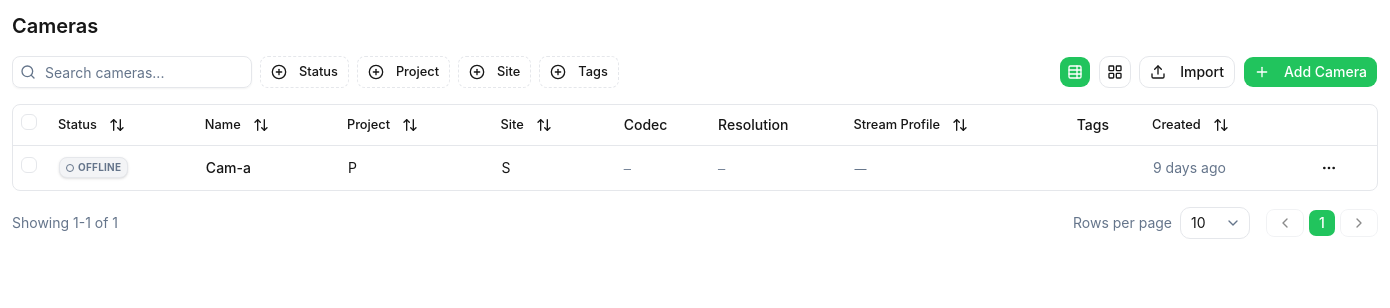
Test: TenantCamerasPage — bulk toolbar integration (D-04) › toolbar appears when ≥1 camera selected
The image size is (1390, 308).
Expected: the text "Cam-a" is shown, [206,158,251,176]
Click the checkbox named "Select camera Cam-a": click(29, 165) [21,157,37,173]
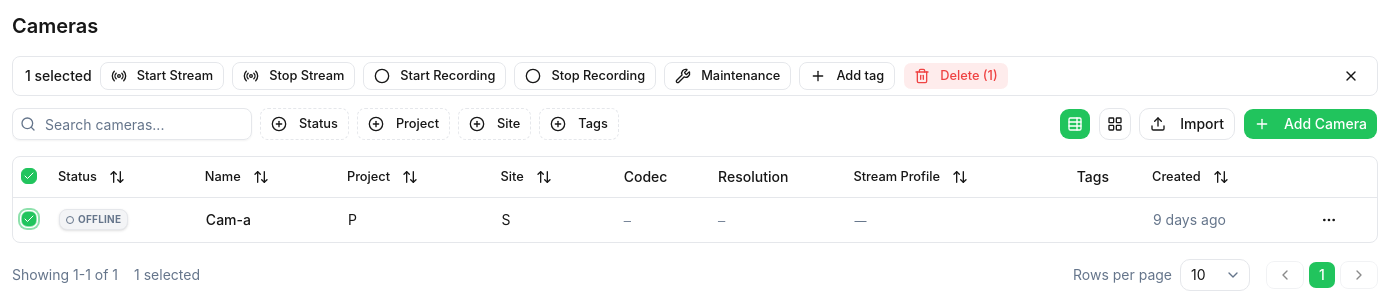
Expected: the element named "bulk actions" is shown, [12,56,1378,96]
